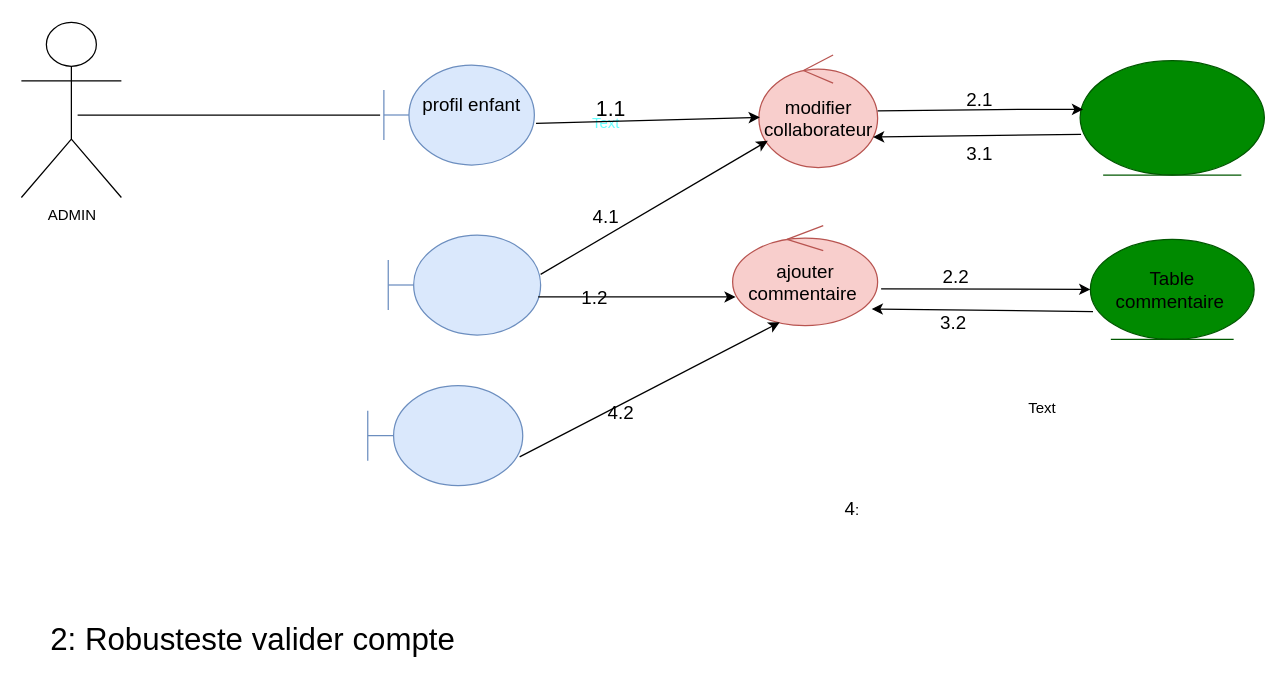
This 1288x678 diagram has some shape labels left out. Here are the shapes that lost their labels. From the top down, the centre of each, then its label:
At pixel 1171 117: "table collaborateur+modifier horarire".
At pixel 464 284: "Liste collaborateur".
At pixel 444 435: "page commentaire".
